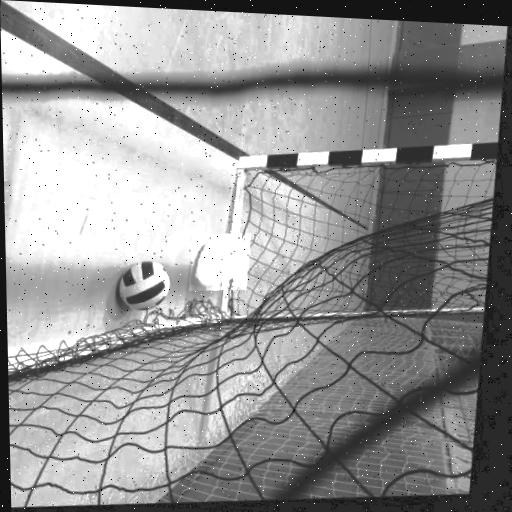balloon: (193, 235, 257, 299)
